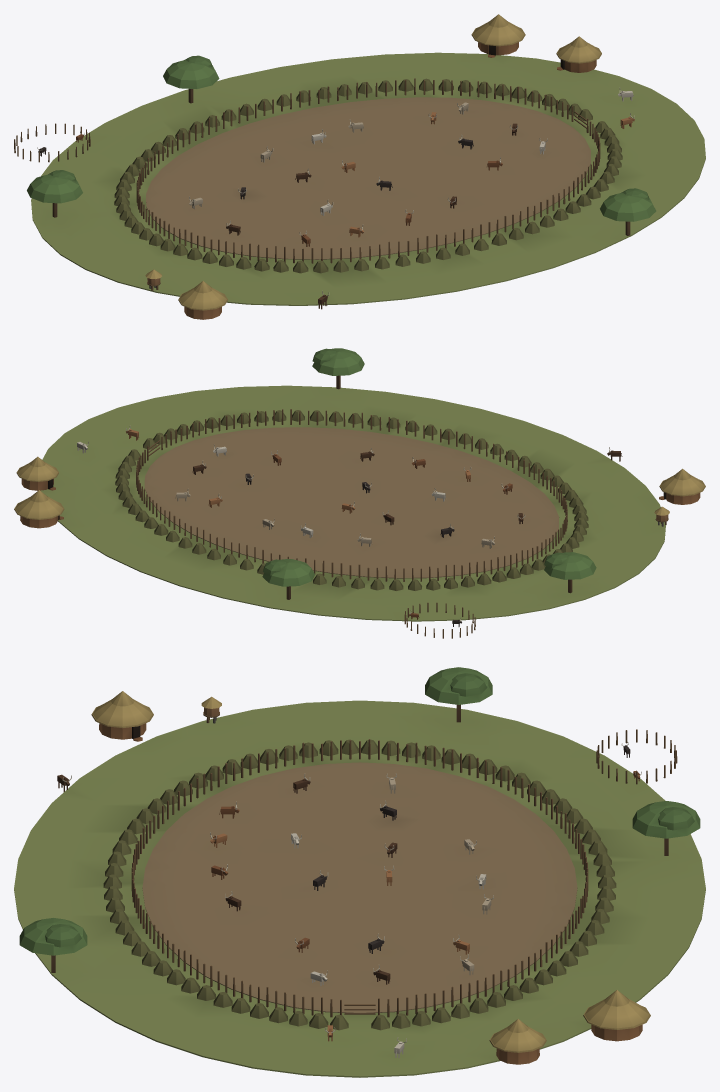
The model's file is royal-kraal.glb.
3 views of the same model, one above another, from view 1: azimuth 30°, elevation 25°; view 2: azimuth 150°, elevation 25°; view 3: azimuth 270°, elevation 25° (orthographic). The views are drawn at different scales.
Parts seen in each view (by area): view 1: p0_ground, p1_fence, p2_huts, p3_cattle; view 2: p0_ground, p1_fence, p2_huts, p3_cattle; view 3: p0_ground, p1_fence, p2_huts, p3_cattle.
Part boxes in pixels (<box>): p0_ground: <box>31,52,705,305</box>; p1_fence: <box>14,78,622,273</box>; p2_huts: <box>27,14,656,319</box>; p3_cattle: <box>37,87,634,309</box>; p0_ground: <box>40,385,665,621</box>; p1_fence: <box>115,409,588,638</box>; p2_huts: <box>14,348,705,599</box>; p3_cattle: <box>77,425,622,626</box>; p0_ground: <box>14,700,705,1077</box>; p1_fence: <box>103,729,677,1030</box>; p2_huts: <box>19,667,700,1064</box>; p3_cattle: <box>57,742,641,1058</box>.
Bounding box in the file's own units: 90 × 5.82 × 70.
